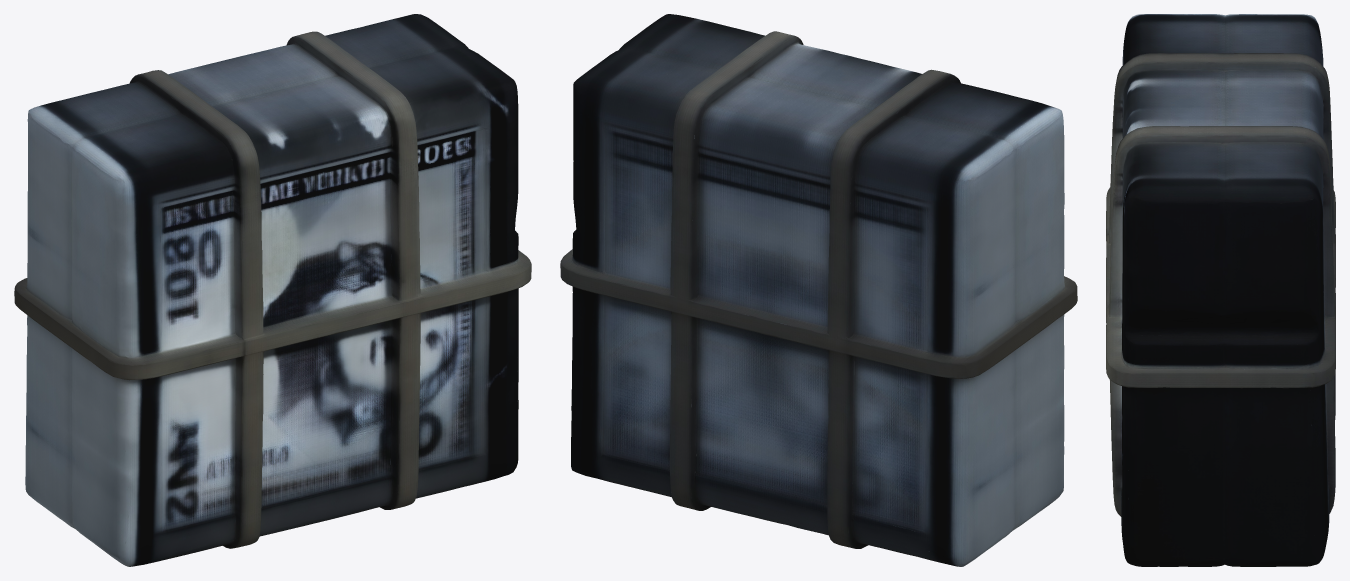
File: cash-bundle.glb
The picture shows the model from 3 angles, left to right: view 1: azimuth 30°, elevation 25°; view 2: azimuth 150°, elevation 25°; view 3: azimuth 270°, elevation 25°; orthographic projection. The views are drawn at different scales.
Visible parts, largest first — view 1: Mesh; view 2: Mesh; view 3: Mesh.
Part boxes in pixels (<box>): Mesh: <box>14,14,531,566</box>; Mesh: <box>560,14,1077,566</box>; Mesh: <box>1106,14,1335,566</box>.
Size of the model in its own units: 1.91 by 1.79 by 0.9506.
1 material, 1 textured.
